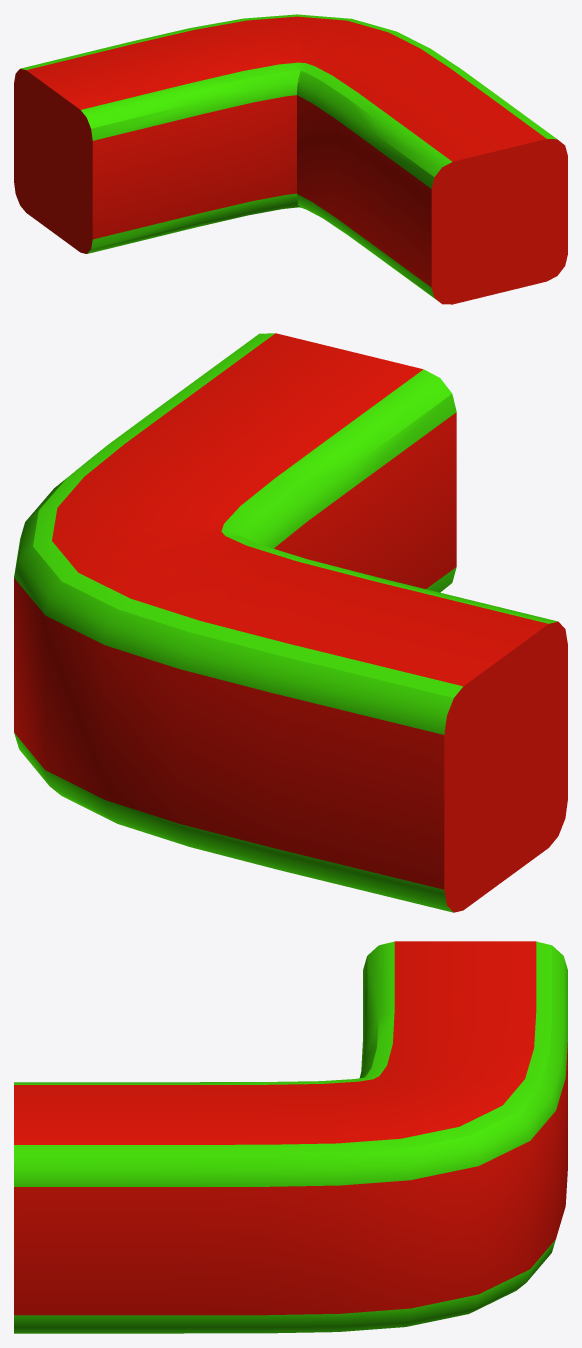
Rendered from InceYol_SolaDonus.fbx.
The picture shows the model from 3 angles, top to bottom: view 1: azimuth 30°, elevation 25°; view 2: azimuth 150°, elevation 25°; view 3: azimuth 270°, elevation 25°; orthographic projection. The views are drawn at different scales.
Parts seen in each view (by area): view 1: InceYol_SolaDonus; view 2: InceYol_SolaDonus; view 3: InceYol_SolaDonus.
Part boxes in pixels (x1=…): InceYol_SolaDonus: x1=14, y1=14, x2=567, y2=304; InceYol_SolaDonus: x1=14, y1=333, x2=567, y2=912; InceYol_SolaDonus: x1=14, y1=941, x2=567, y2=1333.
Size of the model in its own units: 125 by 49.99 by 135.
